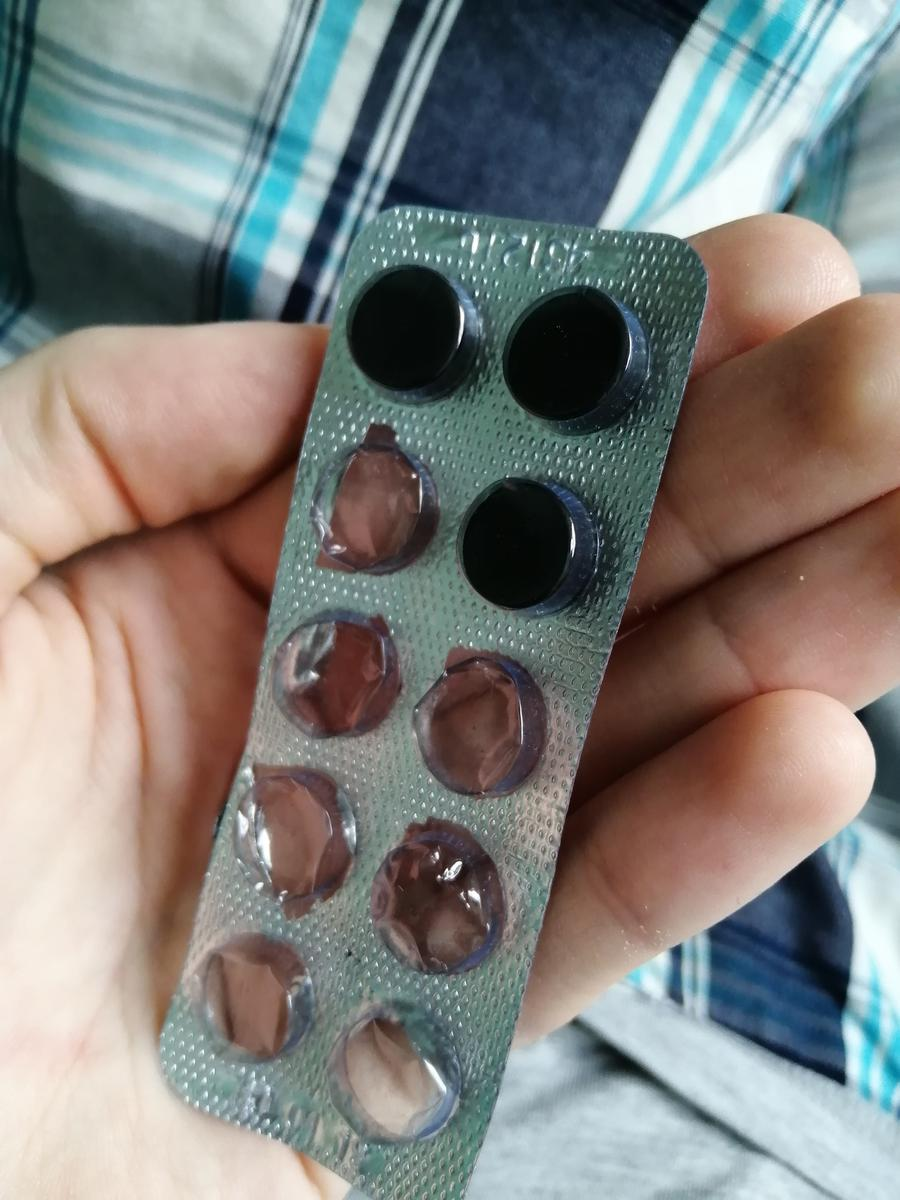tablet: (498, 284, 646, 433), (453, 473, 600, 620), (346, 266, 476, 403)
